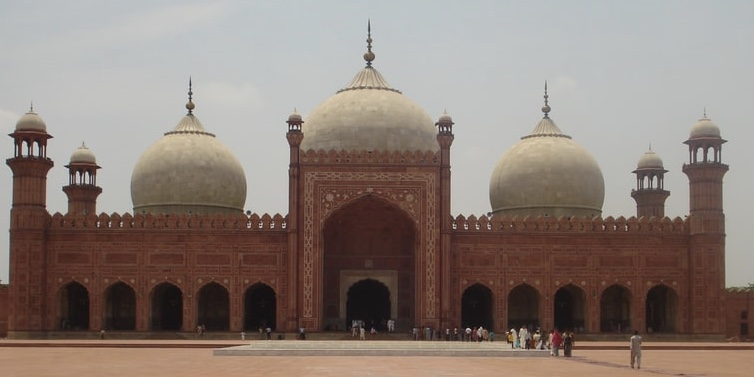Mosque: (14, 22, 730, 337)
